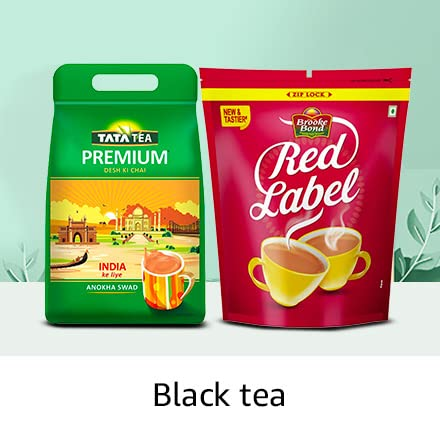veg: (388, 106, 402, 123)
